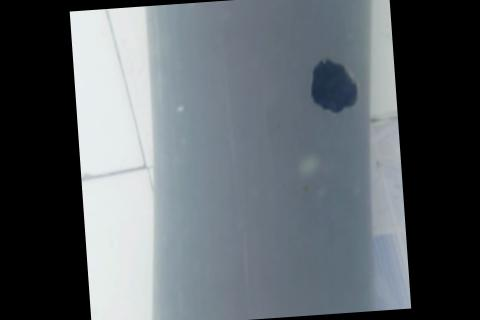kebocoran: (305, 54, 361, 115)
